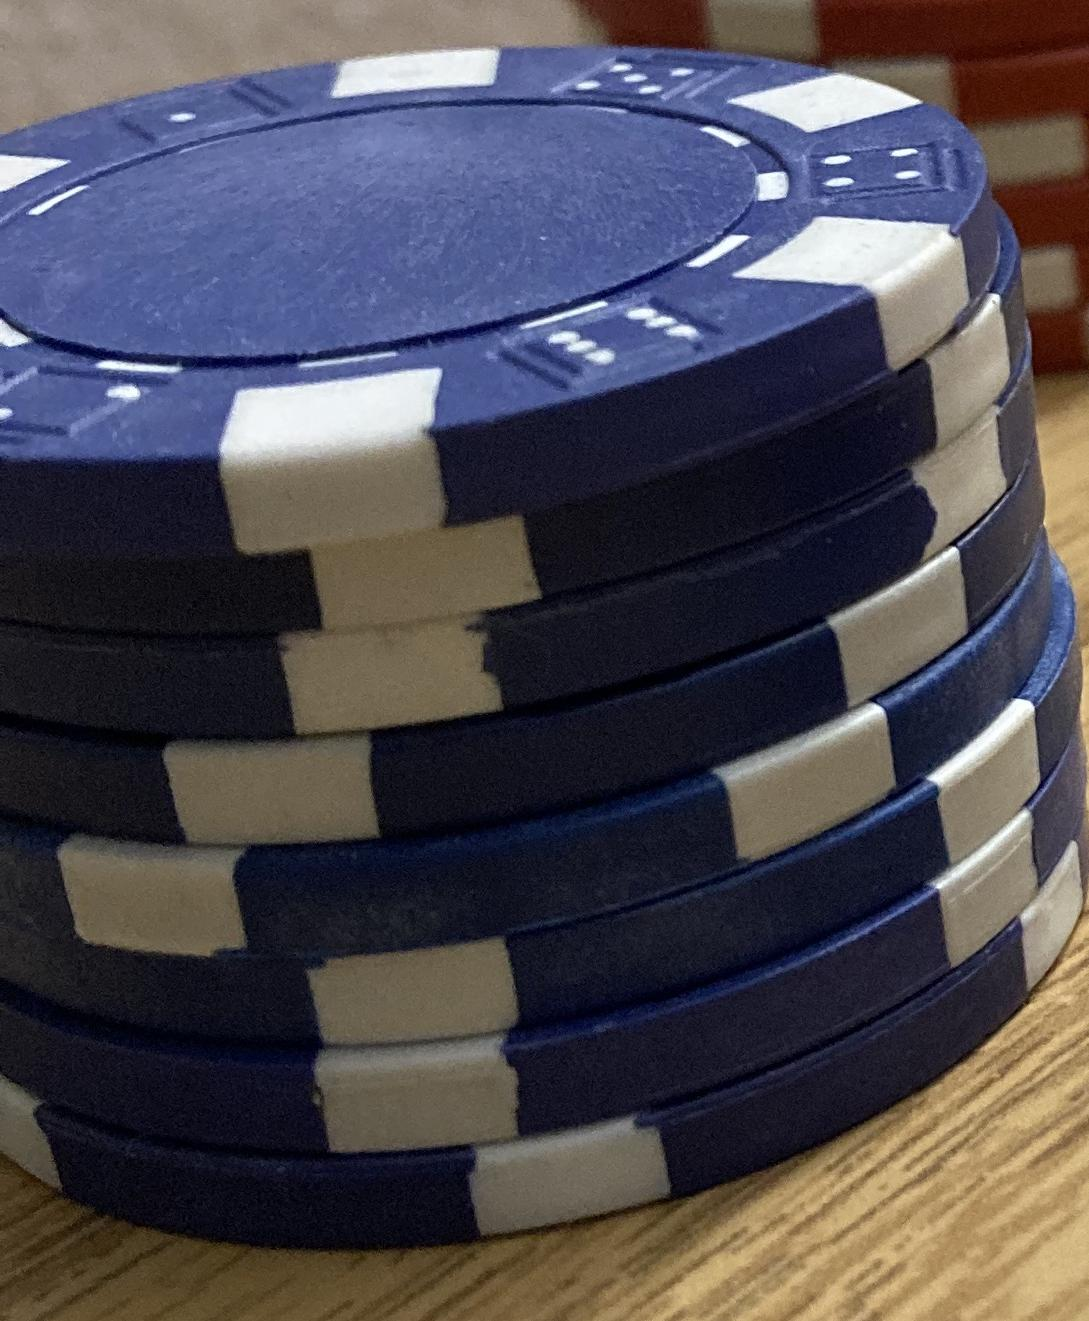Chip: (1, 1, 1089, 1321)
